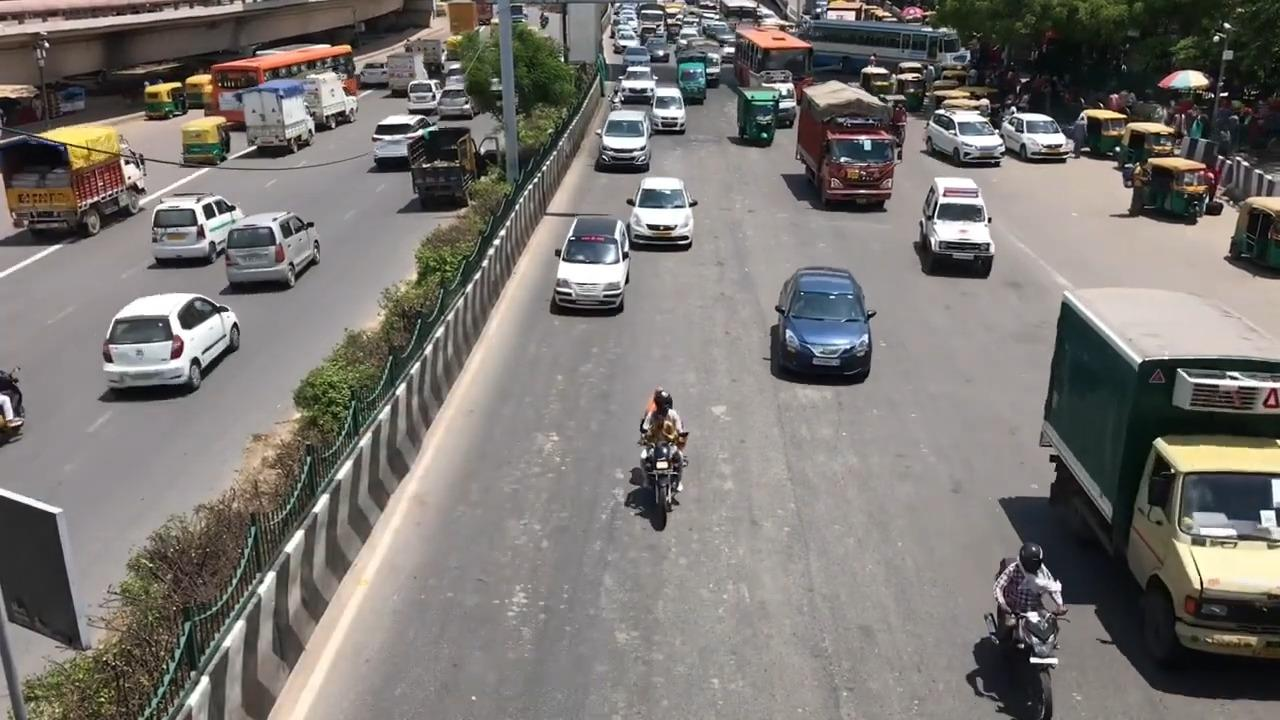Auto: (1228, 194, 1279, 269), (180, 115, 230, 166), (184, 73, 211, 108)
Bike: (981, 540, 1067, 720), (631, 385, 694, 531), (0, 365, 26, 445)
Bus: (204, 42, 358, 129), (797, 18, 962, 75), (733, 26, 813, 88)
Car: (101, 291, 240, 392), (773, 265, 876, 380), (552, 214, 631, 311), (224, 210, 320, 289), (918, 176, 995, 270), (150, 192, 244, 265), (625, 176, 698, 248), (922, 108, 1005, 167), (1000, 111, 1074, 161), (594, 109, 652, 172), (371, 113, 437, 168), (649, 86, 687, 133), (436, 85, 475, 119), (406, 79, 441, 114), (358, 61, 388, 86)
Truck: (1038, 285, 1279, 667), (0, 123, 147, 236), (794, 79, 906, 207), (405, 125, 480, 208), (242, 79, 315, 153)
